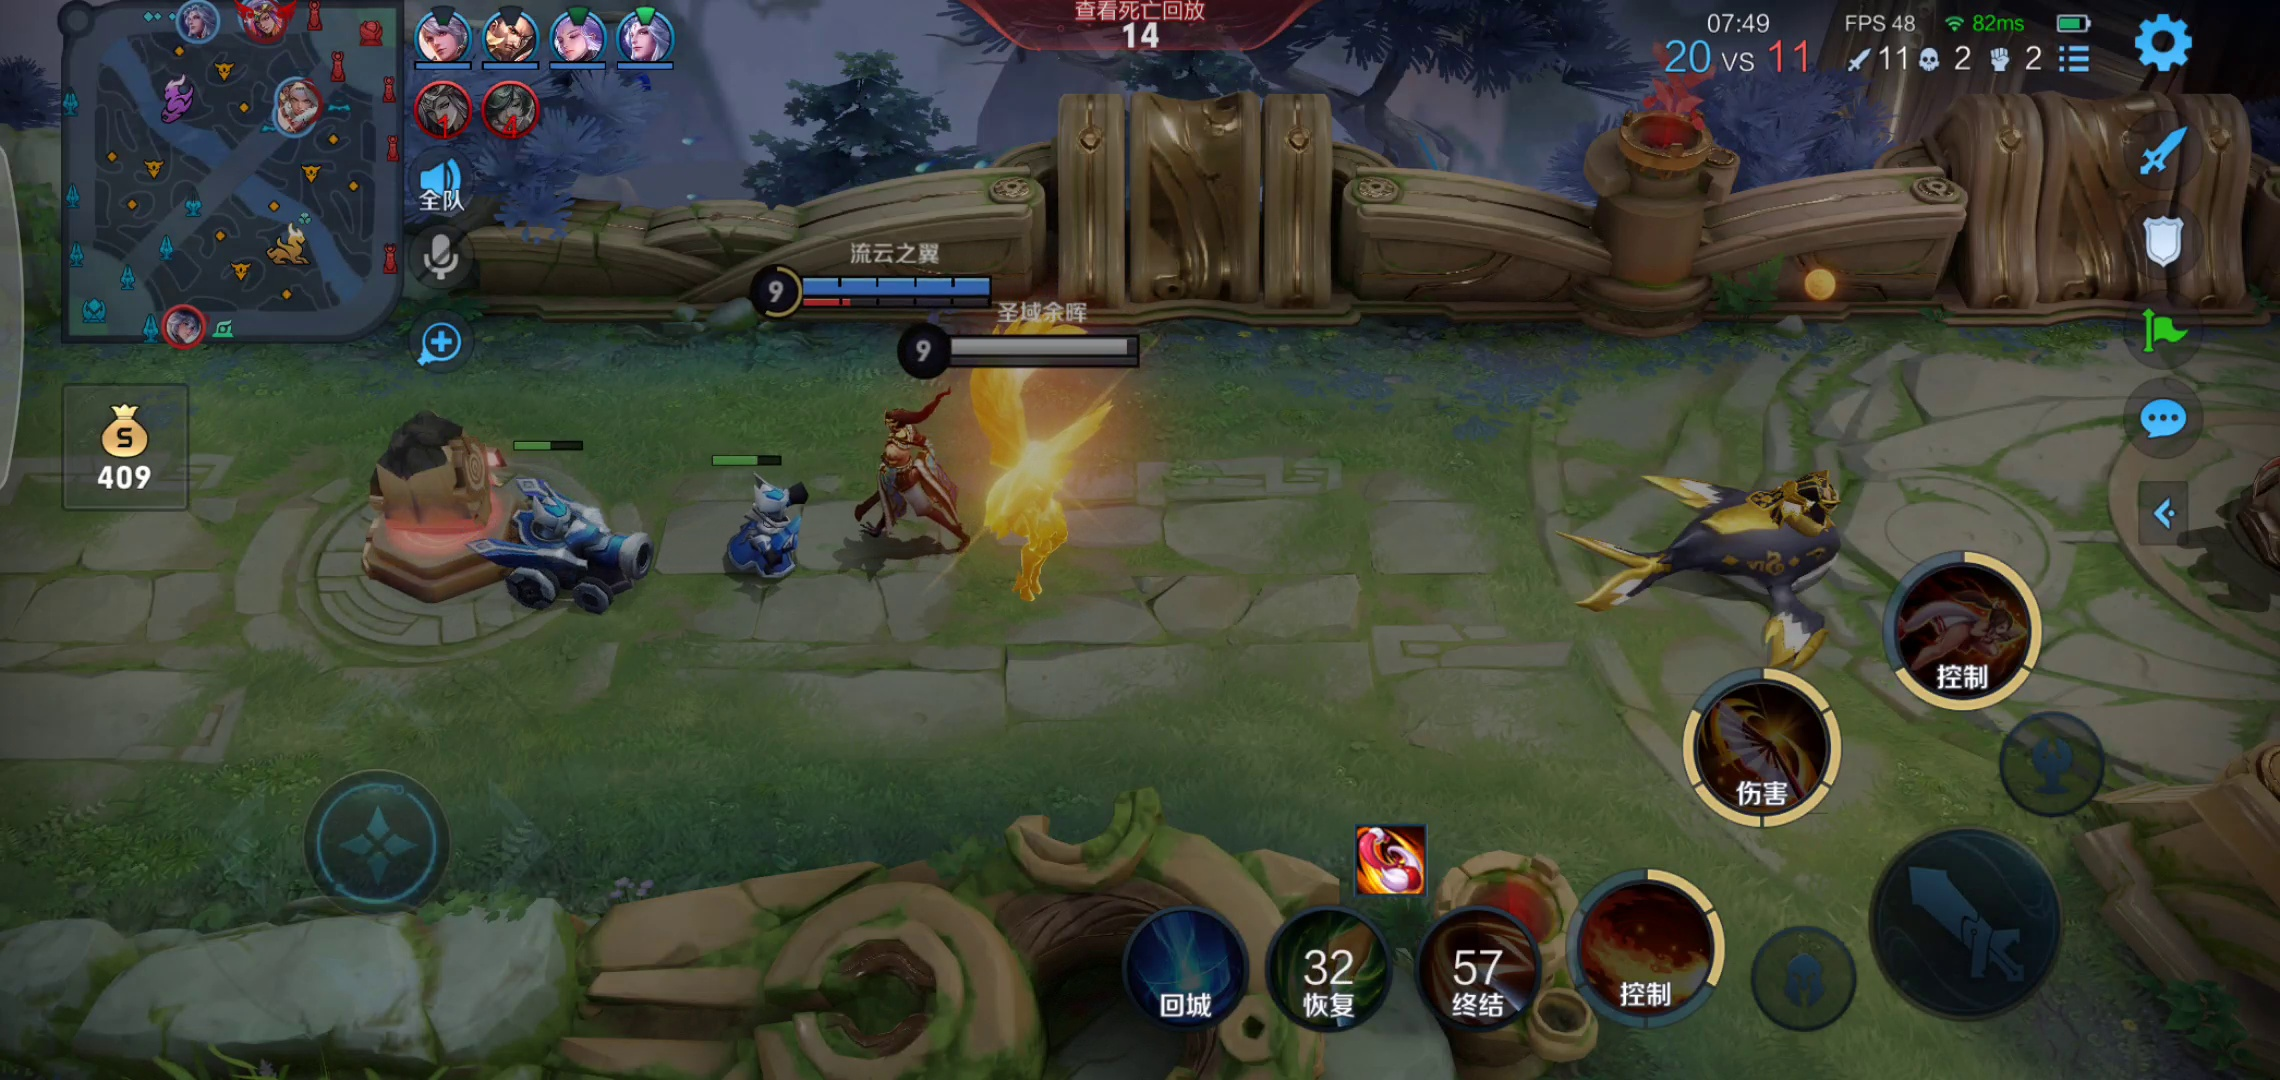hero: (1567, 448, 1851, 670), (958, 385, 1099, 599), (846, 398, 977, 557)
soldier: (499, 490, 657, 619), (710, 475, 819, 589)
tower: (348, 401, 521, 596)
